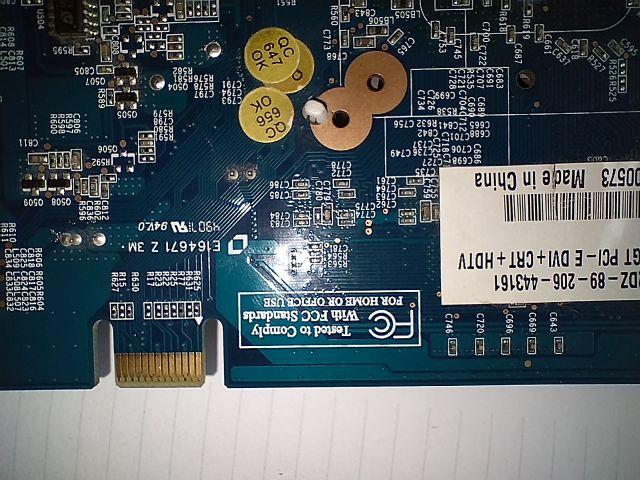capacitor: (418, 204, 436, 224), (322, 206, 333, 224), (72, 154, 80, 176), (334, 178, 346, 190), (139, 138, 156, 146), (80, 183, 88, 196), (398, 190, 412, 197), (293, 181, 306, 188), (297, 213, 306, 219)
resistor: (142, 156, 158, 164), (105, 88, 112, 104), (137, 147, 155, 153), (340, 191, 355, 197)
